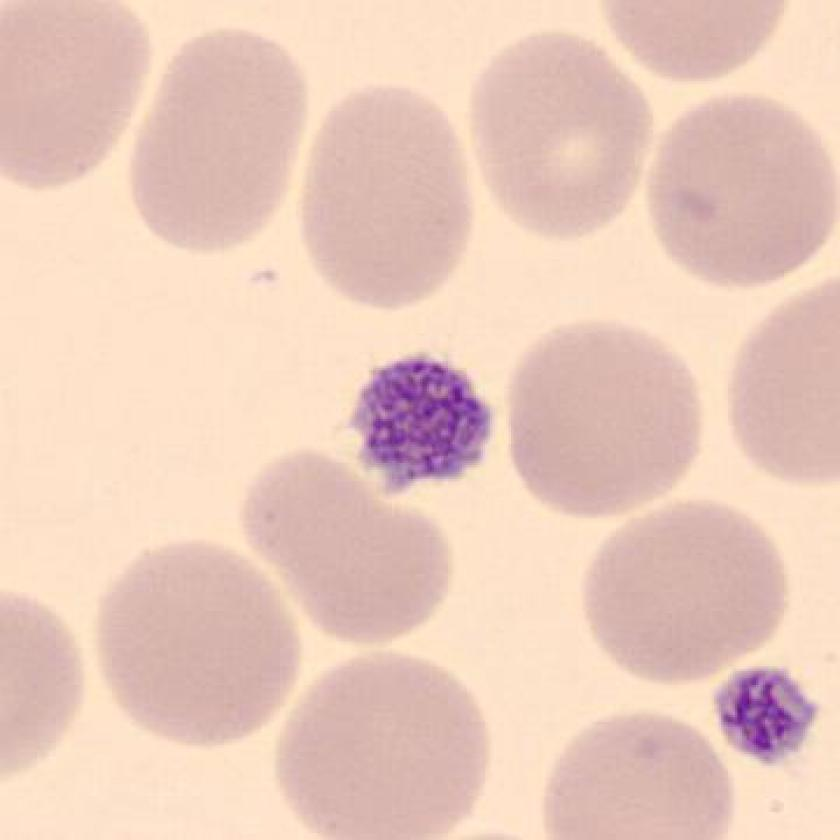platelets: (337, 343, 503, 508), (706, 654, 832, 779)
